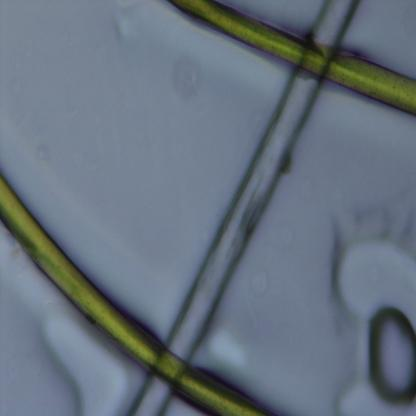Air bubble: (38, 312, 129, 414), (329, 228, 416, 323), (365, 302, 416, 408)
Background material: (169, 52, 203, 102), (113, 9, 142, 47)
Microfibre: (130, 1, 358, 415), (0, 174, 274, 416), (169, 0, 416, 118)
